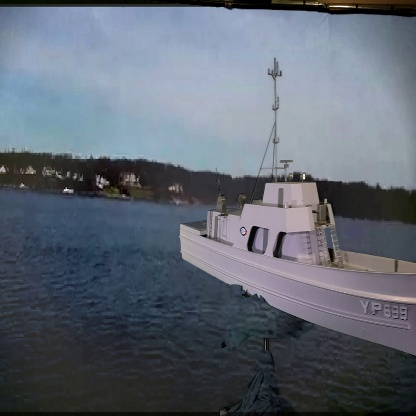YP689: (178, 63, 416, 360)
